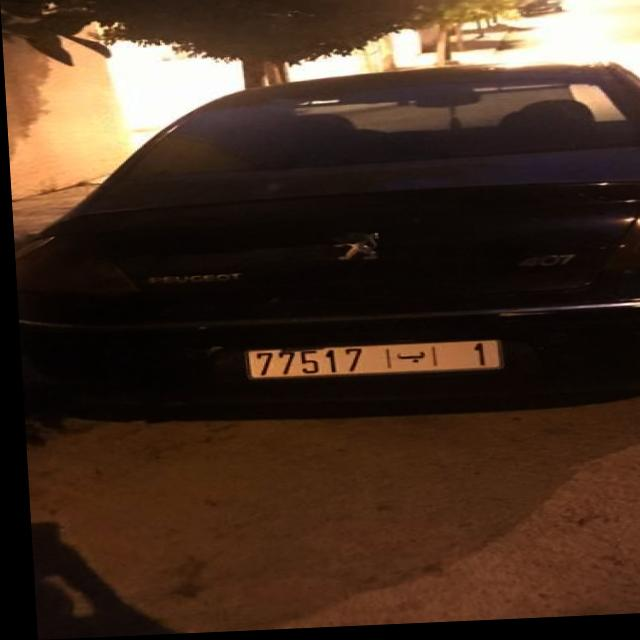License-Plate: (241, 344, 498, 382)
